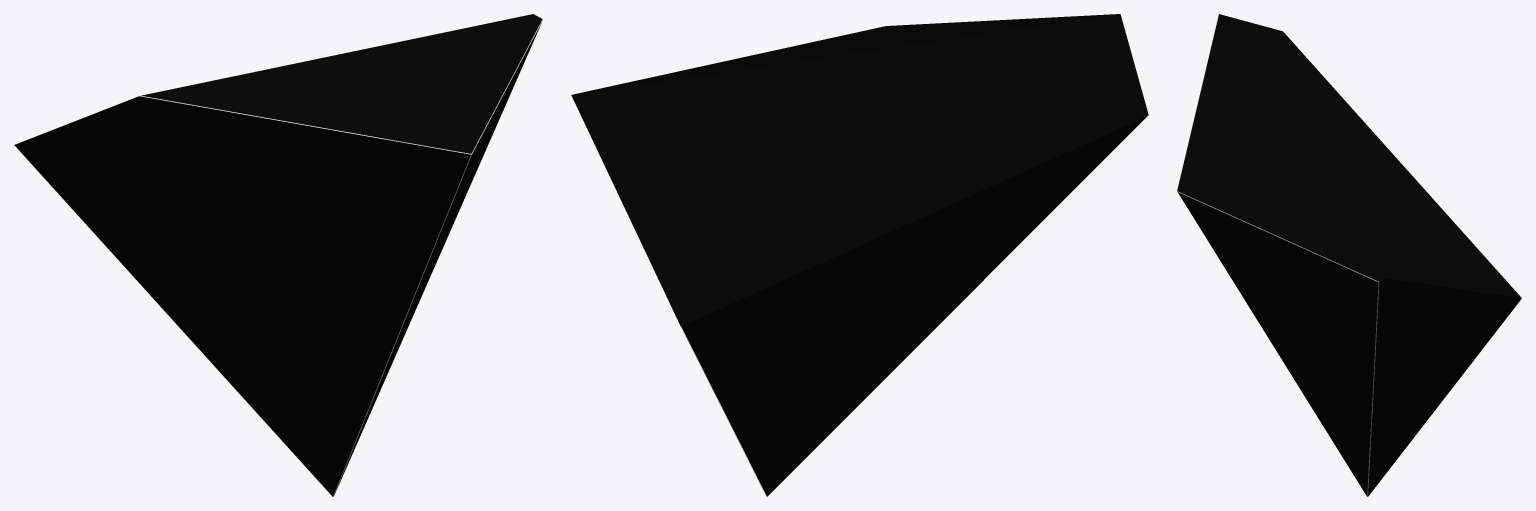
Rendered from Project01.glb.
3 renders of one model, left to right at view 1: azimuth 30°, elevation 25°; view 2: azimuth 150°, elevation 25°; view 3: azimuth 270°, elevation 25°, orthographic. The views are drawn at different scales.
Parts seen in each view (by area): view 1: project06; view 2: project06; view 3: project06.
Boxes of the visible parts, box(x1,y1,x2,y2) form: project06: box(14, 14, 542, 496); project06: box(571, 14, 1148, 496); project06: box(1177, 14, 1521, 496).
Size of the model in its own units: 1.17 by 1.04 by 0.85.
Materials: 2 (1 with a texture image).
